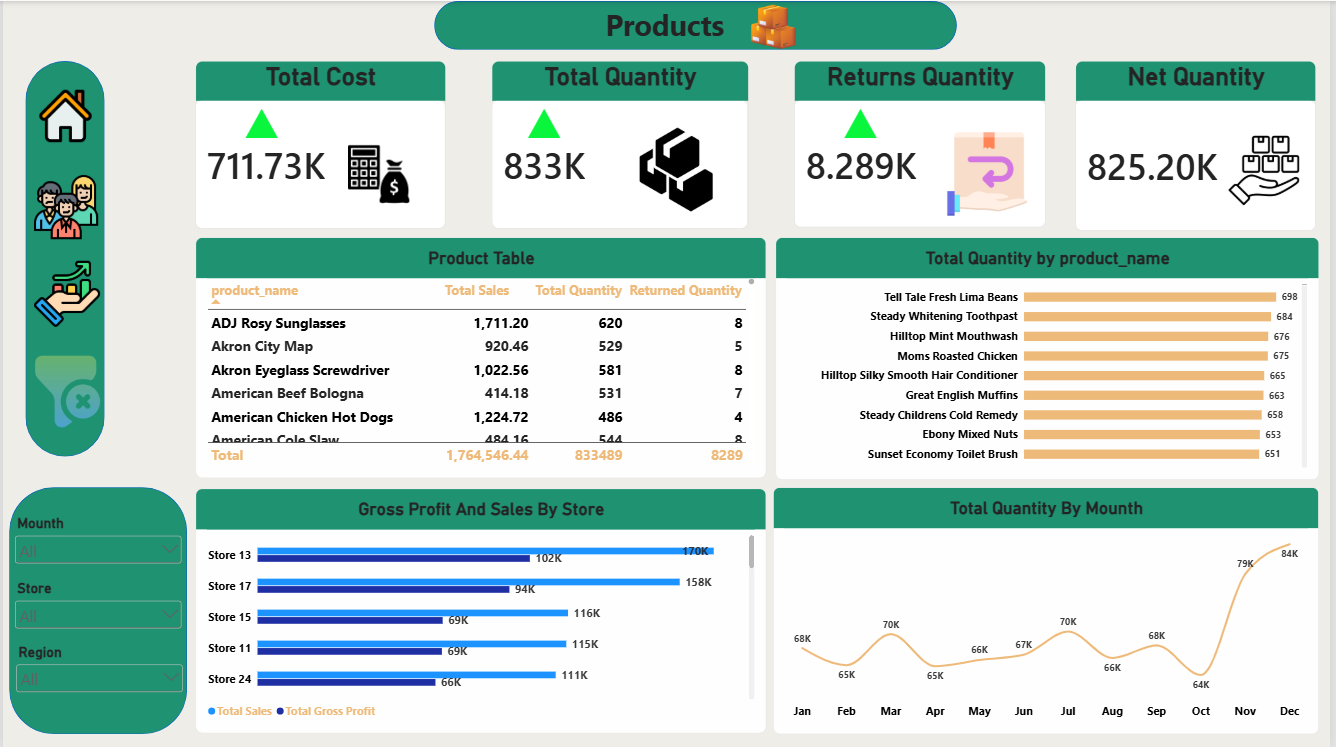

What the dashboard file says about the page in this screenshot:
{"tool":"powerbi","page":{"name":"Products","canvas":[1920,1080],"ordinal":3},"visuals":[{"type":"shape","box":[624.3,0,756.4,70.6],"z":0},{"type":"shape","box":[9.3,703.7,257.4,357.4],"z":1000},{"type":"cardVisual","title":"Net Quantity","fields":{"Data":["_table.Net Quantity"]},"box":[1552.8,86.8,348.1,246.3],"z":2000},{"type":"cardVisual","title":"Total Cost","fields":{"Data":["_table.Total Cost"]},"box":[279.2,86.8,362.3,243.4],"z":3000},{"type":"cardVisual","title":"Returns Quantity","fields":{"Data":["_table.Returned Quantity"]},"box":[1145.3,86.8,364.2,241.5],"z":4000},{"type":"image","box":[23.6,514.5,123.6,103.6],"z":5000},{"type":"clusteredBarChart","title":"Gross Profit And Sales By Store","fields":{"Category":["Stores.store_name"],"Y":["_table.Total Sales","_table.Total Gross Profit"]},"box":[279.2,705.7,826.4,354.7],"z":6000},{"type":"tableEx","title":"Product Table","fields":{"Values":["Products.product_name","_table.Total Sales","_table.Total Quantity","_table.Returned Quantity"]},"box":[279.2,341.5,826.4,349.1],"z":7000},{"type":"lineChart","title":"Total Quantity By Mounth","fields":{"Category":["Calendar (2).Mounth Name"],"Y":["_table.Total Quantity"]},"box":[1115.1,703.8,790.7,357.4],"z":8000},{"type":"shape","box":[32.7,87.3,114.5,572.7],"z":9000},{"type":"image","box":[51.9,87,76,159.3],"z":10000},{"type":"actionButton","box":[725.9,0,465.1,63.3],"z":11000},{"type":"image","box":[0,370.4,185.2,105.6],"z":12000},{"type":"clusteredBarChart","fields":{"Category":["Products.product_name"],"Y":["_table.Total Quantity"]},"box":[1118.9,341.5,787,351],"z":13000},{"type":"cardVisual","title":"Total Quantity","fields":{"Data":["_table.Total Quantity"]},"box":[707.5,86.8,371.7,243.4],"z":14000},{"type":"image","box":[909.4,117,129.1,252.7],"z":15000},{"type":"slicer","fields":{"Values":["Calendar (2).Mounth Name"]},"box":[13.2,743.4,250.9,92.7],"z":16000},{"type":"slicer","fields":{"Values":["Stores.store_name"]},"box":[13.2,837.7,250.9,92.7],"z":17000},{"type":"slicer","fields":{"Values":["Products.product_name"]},"box":[15.1,930.2,250.9,92.7],"z":18000},{"type":"image","box":[43.4,222.6,95.9,152],"z":19000},{"type":"image","box":[1343.4,190.6,164.2,120.8],"z":20000},{"type":"image","box":[1064.2,5.7,101.9,64.2],"z":21000},{"type":"image","box":[500,184.9,88.7,132.1],"z":22000},{"type":"image","box":[1773.6,173.6,103.8,143.4],"z":23000},{"type":"image","box":[20.8,503.8,141.5,124.5],"z":25000},{"type":"cardVisual","fields":{"Data":["_table.Arrow"]},"box":[741.5,58.5,128.3,231],"z":25001},{"type":"cardVisual","fields":{"Data":["_table.Arrow"]},"box":[332.1,58.5,128.3,231],"z":25002},{"type":"cardVisual","fields":{"Data":["_table.Arrow"]},"box":[1200,58.5,128.3,231],"z":25003}]}

Visuals, with their boxes in screenshot pixels (x1, y1, x2, y2), scaled from the page's 1920x1080 canvas onto the 1336x747 screenshot:
shape: 434,0,961,49
shape: 6,487,186,734
"Net Quantity" cardVisual: 1080,60,1323,230
"Total Cost" cardVisual: 194,60,446,228
"Returns Quantity" cardVisual: 797,60,1050,227
image: 16,356,102,428
"Gross Profit And Sales By Store" clusteredBarChart: 194,488,769,733
"Product Table" tableEx: 194,236,769,478
"Total Quantity By Mounth" lineChart: 776,487,1326,734
shape: 23,60,102,456
image: 36,60,89,170
actionButton: 505,0,829,44
image: 0,256,129,329
clusteredBarChart - Products.product_name x _table.Total Quantity: 779,236,1326,479
"Total Quantity" cardVisual: 492,60,751,228
image: 633,81,723,256
slicer - Calendar (2).Mounth Name: 9,514,184,578
slicer - Stores.store_name: 9,579,184,644
slicer - Products.product_name: 11,643,185,708
image: 30,154,97,259
image: 935,132,1049,215
image: 741,4,811,48
image: 348,128,410,219
image: 1234,120,1306,219
image: 14,348,113,435
cardVisual - _table.Arrow: 516,40,605,200
cardVisual - _table.Arrow: 231,40,320,200
cardVisual - _table.Arrow: 835,40,924,200
